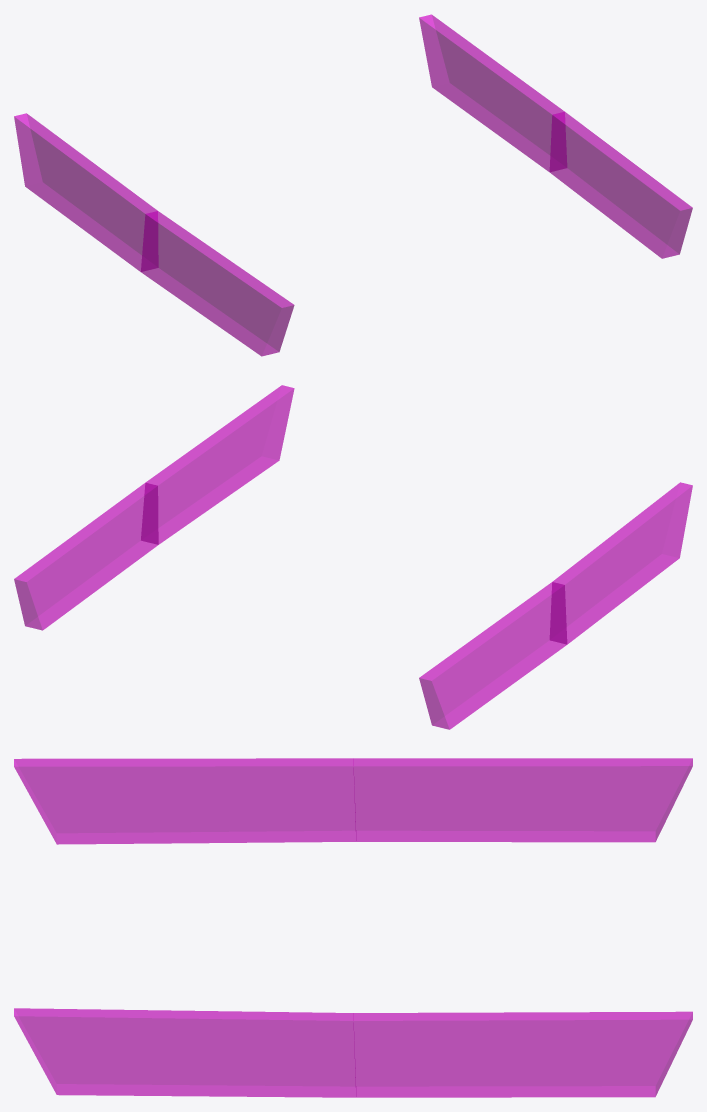
The model's file is SM_Veh_Ship_L_Middle_02_Collision.fbx.
3 views of the same model, one above another, from view 1: azimuth 30°, elevation 25°; view 2: azimuth 150°, elevation 25°; view 3: azimuth 270°, elevation 25° (orthographic). The views are drawn at different scales.
Parts seen in each view (by area): view 1: SM_Veh_Ship_L_Middle_02_Collision; view 2: SM_Veh_Ship_L_Middle_02_Collision; view 3: SM_Veh_Ship_L_Middle_02_Collision.
Boxes of the visible parts, x1,y1,x2,y2 form: SM_Veh_Ship_L_Middle_02_Collision: (14, 14, 692, 356); SM_Veh_Ship_L_Middle_02_Collision: (14, 385, 692, 729); SM_Veh_Ship_L_Middle_02_Collision: (14, 758, 692, 1097).
Bounding box in the file's own units: 1034 × 139 × 1111.
